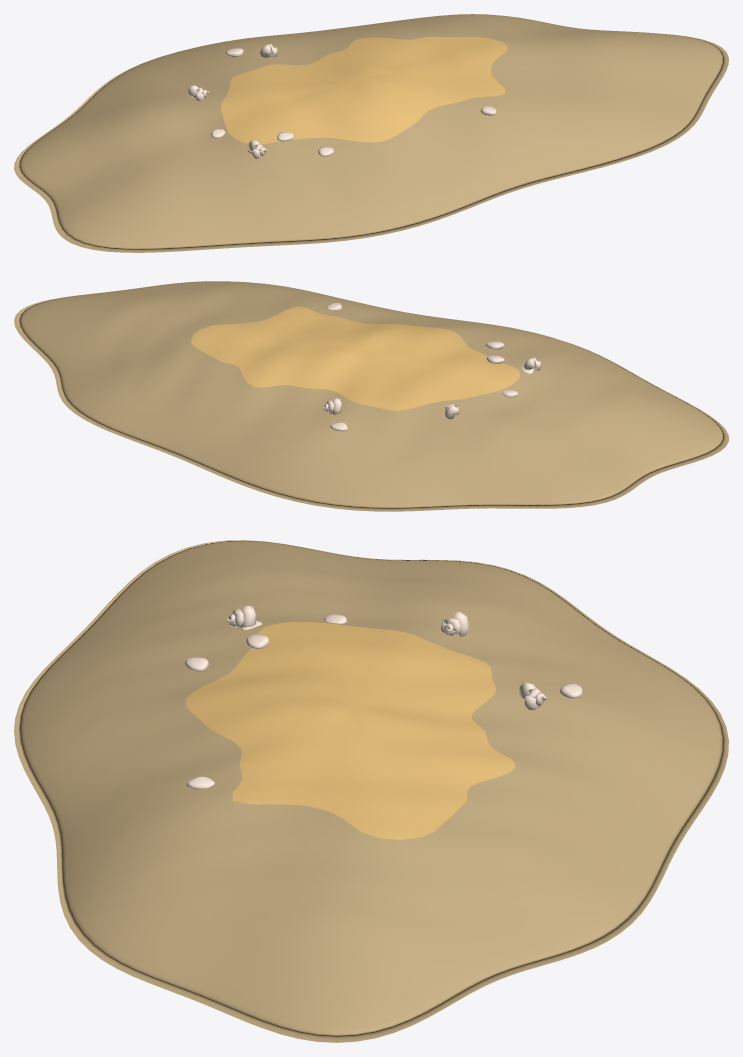
File: SharkBaitSandBar.obj
3 renders of one model, top to bottom at view 1: azimuth 30°, elevation 25°; view 2: azimuth 150°, elevation 25°; view 3: azimuth 270°, elevation 25°, orthographic. The views are drawn at different scales.
Parts seen in each view (by area): view 1: WetSand, Sand, Shells; view 2: WetSand, Sand, Shells; view 3: WetSand, Sand, Shells.
Boxes of the visible parts, box(x1,y1,x2,y2) form: WetSand: box(14, 14, 728, 252); Sand: box(221, 36, 507, 144); Shells: box(188, 44, 497, 158); WetSand: box(14, 281, 728, 511); Sand: box(191, 306, 519, 410); Shells: box(323, 302, 541, 431); WetSand: box(14, 540, 728, 1042); Sand: box(185, 622, 515, 839); Shells: box(184, 605, 583, 789).
Size of the model in its own units: 41.47 by 3 by 24.92.
